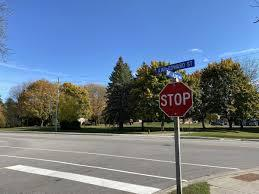Pole: (175, 121, 182, 193)
Sign: (158, 82, 194, 118)
